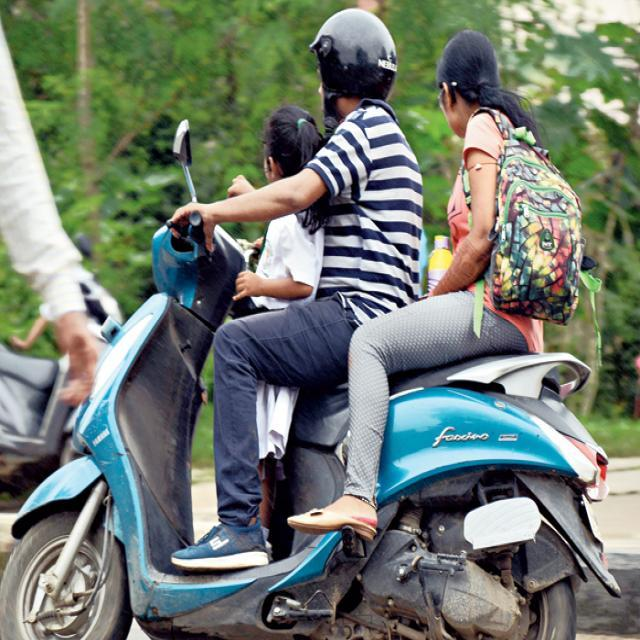Triple riding: (255, 6, 574, 385)
